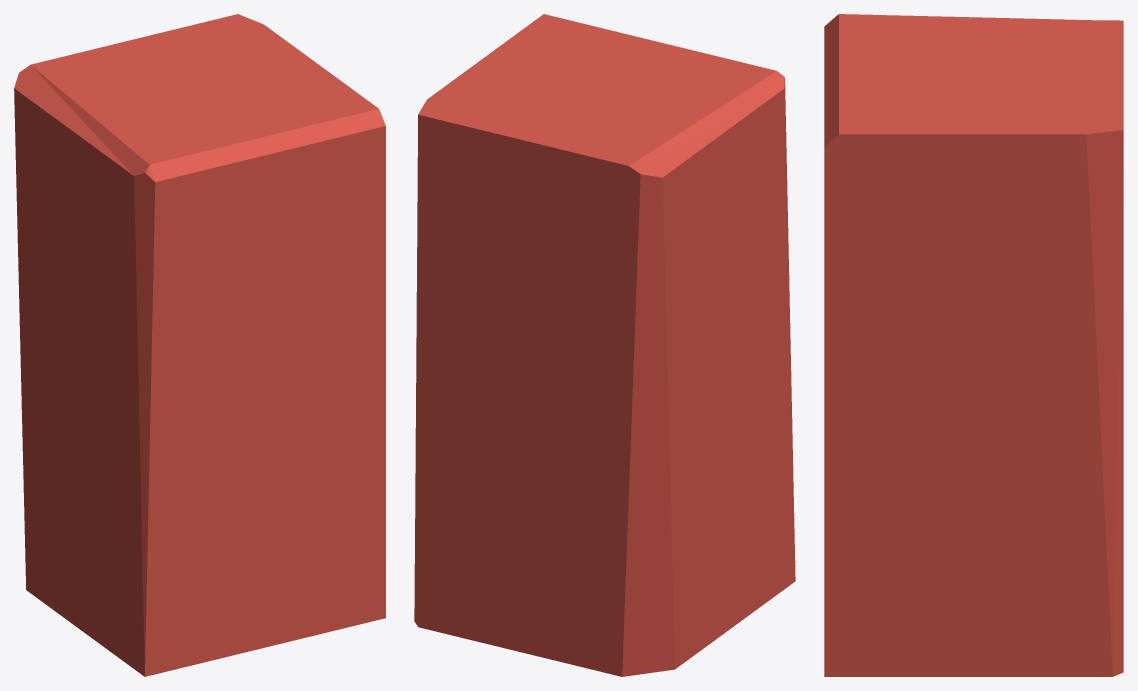
Rendered from 3D_Elevator.FBX.
3 views of the same model, side by side, from view 1: azimuth 30°, elevation 25°; view 2: azimuth 150°, elevation 25°; view 3: azimuth 270°, elevation 25° (orthographic). The views are drawn at different scales.
Parts seen in each view (by area): view 1: 3D_Elevator; view 2: 3D_Elevator; view 3: 3D_Elevator.
Boxes of the visible parts, left/top/right/bottom form: 3D_Elevator: left=14, top=14, right=385, bottom=676; 3D_Elevator: left=414, top=14, right=795, bottom=676; 3D_Elevator: left=824, top=14, right=1123, bottom=676.
Bounding box in the file's own units: 100 × 200 × 100.
1 material, 1 textured.
